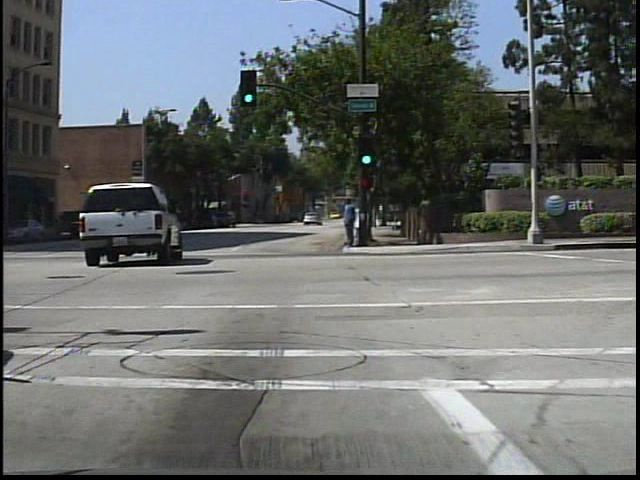person: (339, 193, 359, 249), (347, 195, 365, 245)
